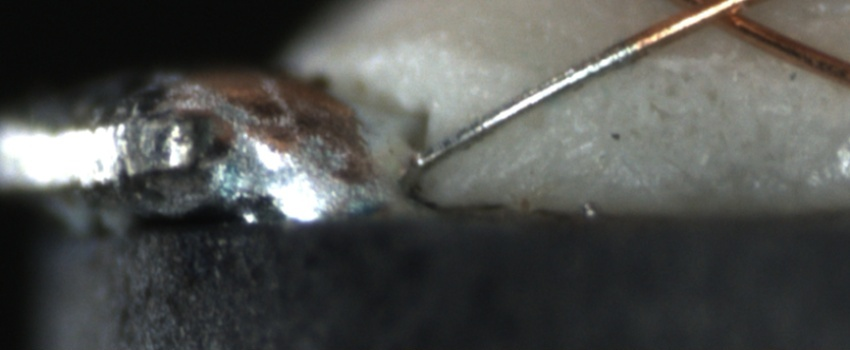CL: (652, 0, 768, 37)
TS: (413, 42, 640, 168)
